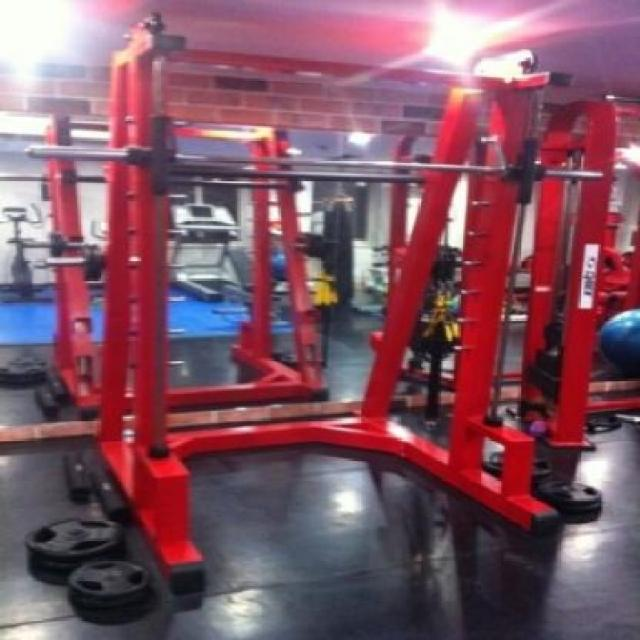smith machine: (98, 11, 617, 598)
